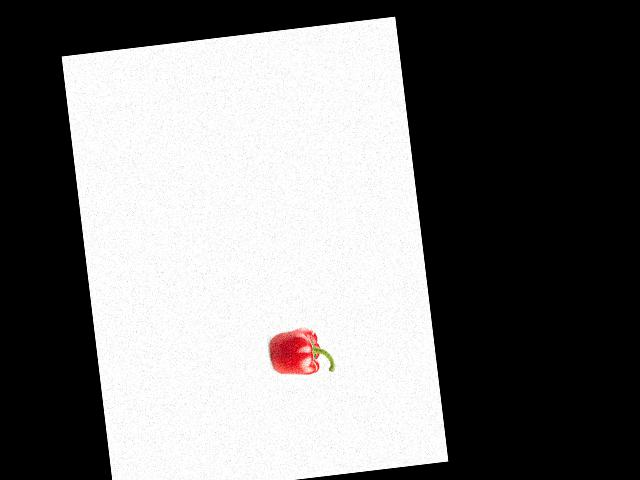bell_pepper: (267, 325, 336, 380)
